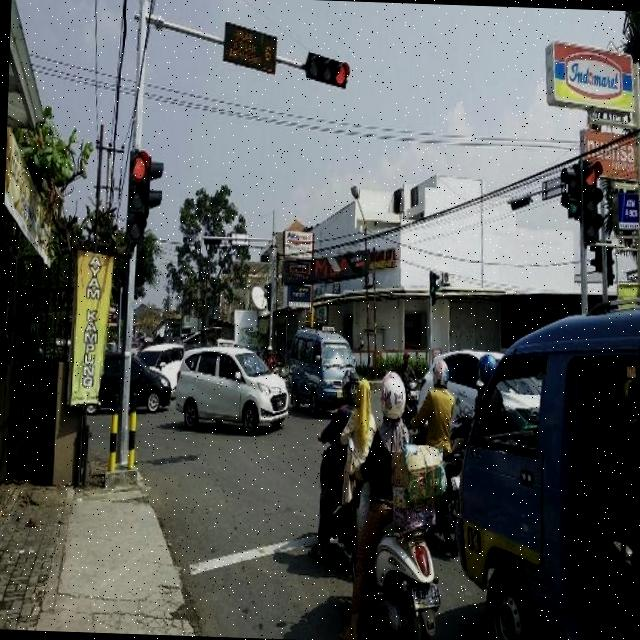Czerwone swiatlo: (577, 154, 601, 245), (128, 149, 148, 247), (305, 56, 350, 91)
